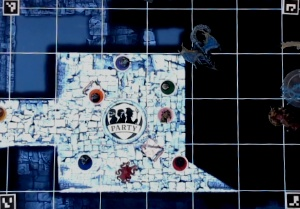blue: (73, 151, 96, 174)
green: (157, 79, 176, 96)
orange: (86, 84, 109, 104)
pink: (154, 106, 175, 124)
red: (167, 154, 188, 172)
violet: (111, 54, 133, 72)
yellow: (0, 103, 9, 121)
